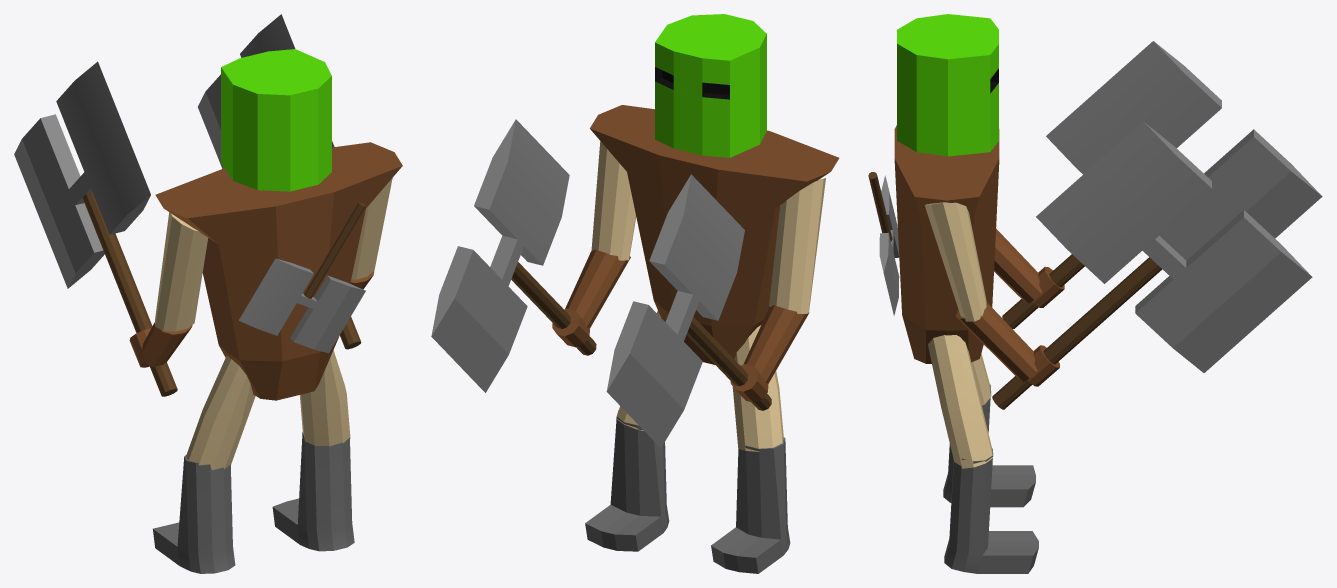
Rendered from Berserker.fbx.
3 views of the same model, side by side, from view 1: azimuth 30°, elevation 25°; view 2: azimuth 150°, elevation 25°; view 3: azimuth 270°, elevation 25° (orthographic).
Parts seen in each view (by area): view 1: pCube5; view 2: pCube5; view 3: pCube5.
Part boxes in pixels (left/top/right/bottom): pCube5: left=14, top=14, right=402, bottom=573; pCube5: left=431, top=14, right=839, bottom=573; pCube5: left=868, top=14, right=1322, bottom=573.
Bounding box in the file's own units: 30.12 × 61.32 × 50.83.
